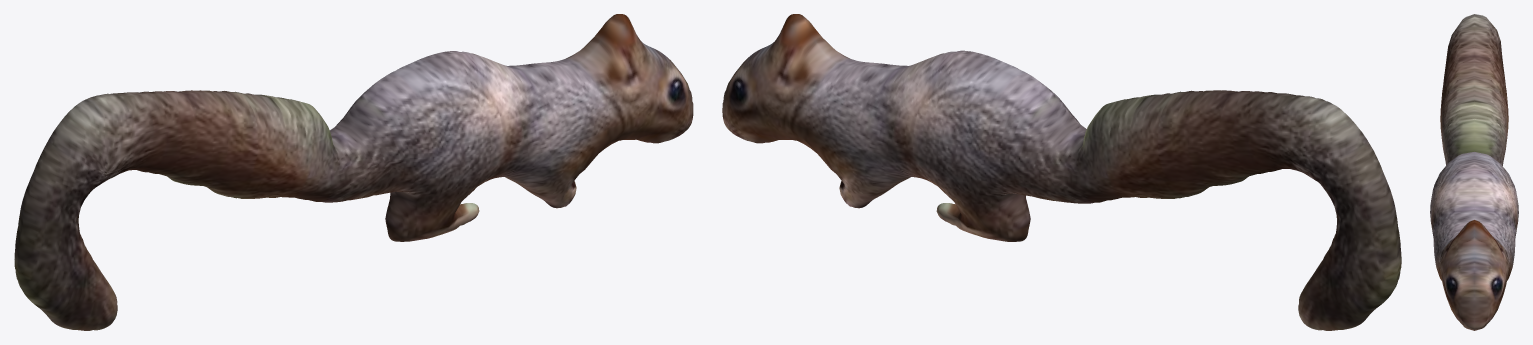
Rendered from asset.glb.
3 views of the same model, side by side, from view 1: azimuth 30°, elevation 25°; view 2: azimuth 150°, elevation 25°; view 3: azimuth 270°, elevation 25° (orthographic). The views are drawn at different scales.
Bounding box in the file's own units: 5.13 × 1.66 × 0.8509.
Materials: 1 (1 with a texture image).
